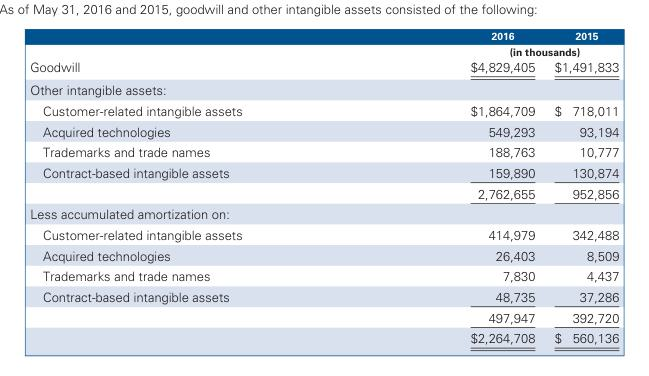table: (29, 28, 618, 345)
table column: (29, 28, 355, 345), (355, 28, 544, 345), (544, 28, 618, 345)
table column header: (29, 28, 618, 58)
table projected row header: (29, 77, 618, 99), (29, 203, 618, 223)
table row: (29, 77, 618, 99), (29, 99, 618, 120), (29, 120, 618, 141), (29, 161, 618, 182), (29, 182, 618, 203), (29, 223, 618, 244), (29, 244, 618, 265), (29, 265, 618, 286), (29, 306, 618, 327), (29, 141, 618, 161), (29, 203, 618, 223), (29, 286, 618, 306), (29, 58, 618, 77), (29, 327, 618, 345), (29, 28, 618, 43), (29, 43, 618, 58)
table spanning cell: (355, 43, 618, 58)
